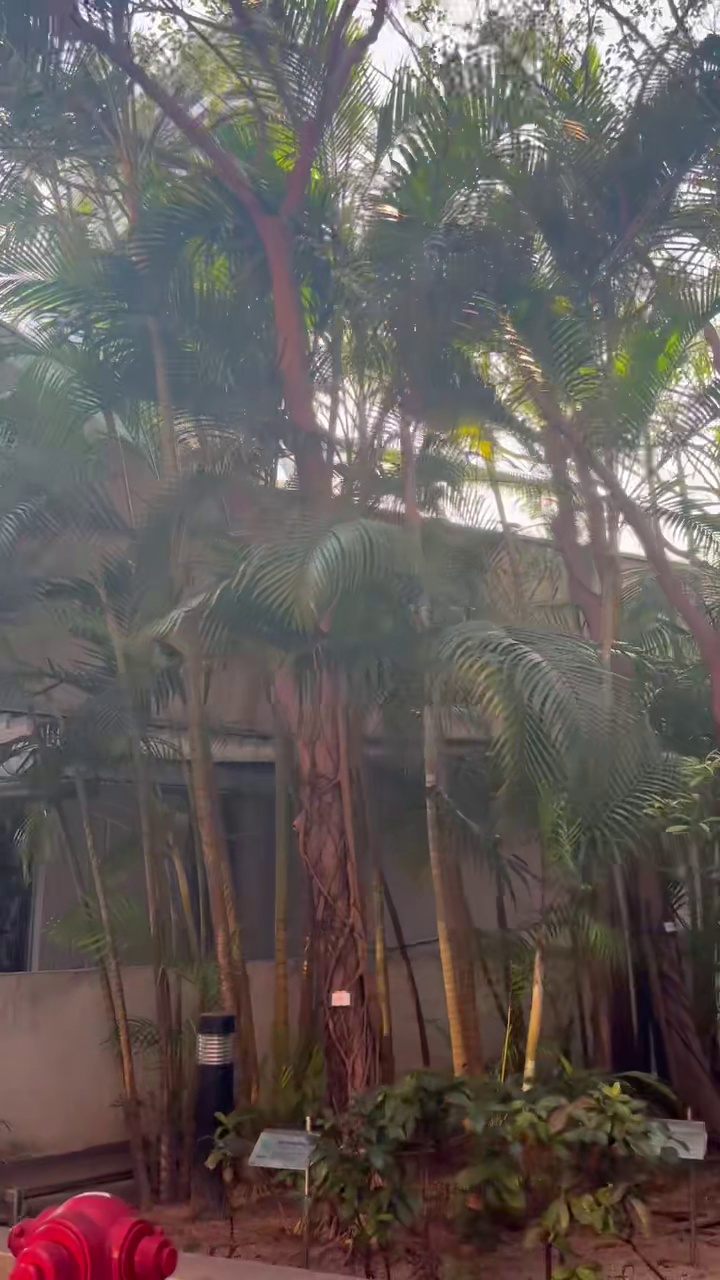Ficus benjamina: (63, 0, 397, 1109)
